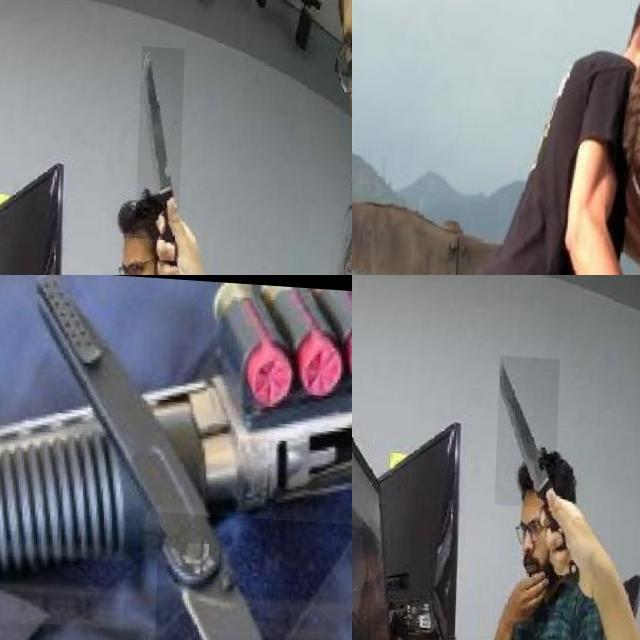-: (150, 507, 352, 640), (497, 350, 561, 502), (138, 40, 186, 215)
